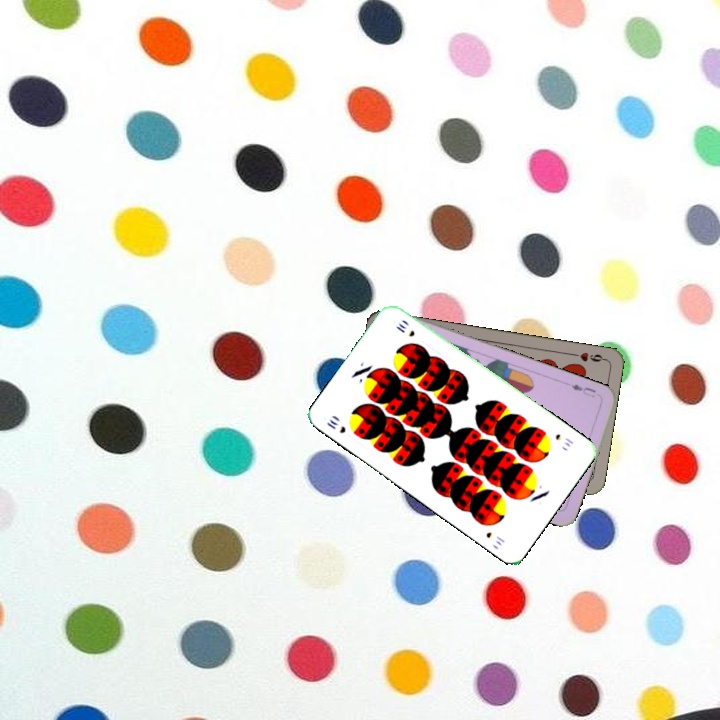EU: (567, 380, 599, 400)
H9: (568, 348, 608, 365)
S10: (322, 415, 348, 436), (551, 429, 576, 449)
